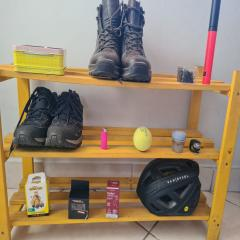bola: (131, 122, 154, 153)
bomba: (202, 0, 222, 85)
bota1: (86, 0, 154, 84)
bota2: (12, 86, 84, 153)
capacete: (137, 158, 202, 217)
cx-bike: (68, 176, 92, 220)
cx-ferro: (104, 178, 123, 221)
cx-magali: (10, 42, 69, 78)
cx-minions: (22, 170, 52, 221)
cx-xuxa: (175, 60, 198, 86)
isqueiro: (99, 124, 108, 151)
luz: (188, 135, 204, 157)
pote: (169, 128, 187, 154)
